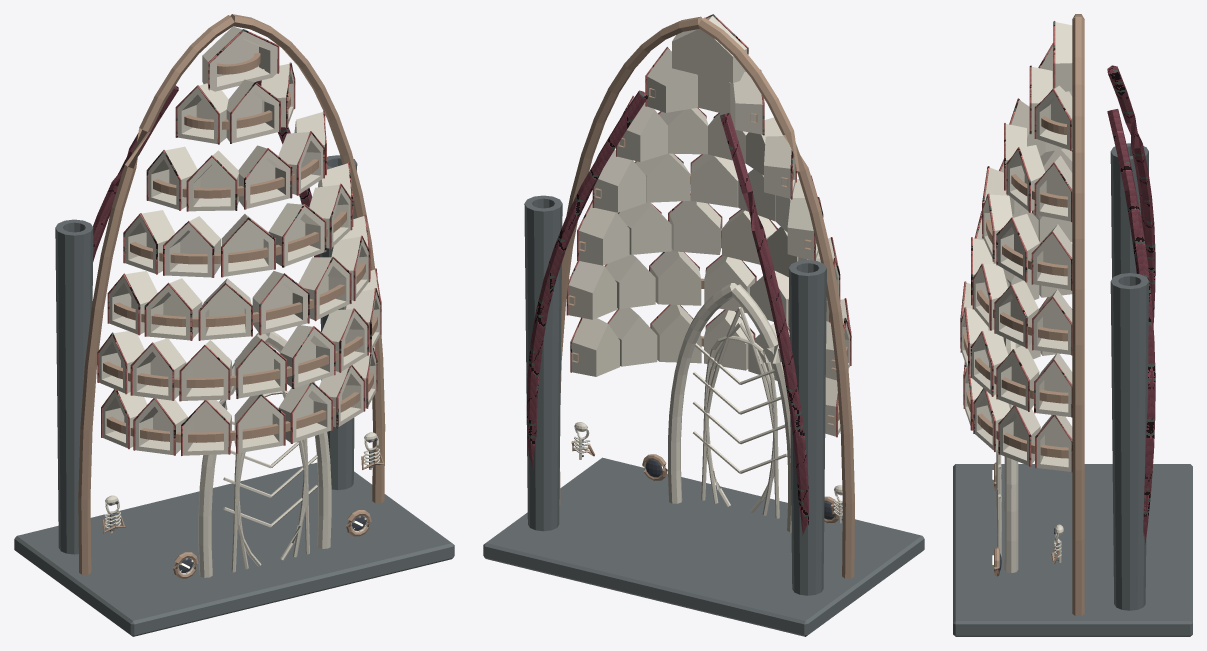
Rendered from processional_acoustic_canopy.glb.
3 renders of one model, left to right at view 1: azimuth 30°, elevation 25°; view 2: azimuth 150°, elevation 25°; view 3: azimuth 270°, elevation 25°, orthographic.
Visible parts, largest first — view 1: processional_acoustic_canopy_warm, processional_acoustic_canopy_petrol, processional_acoustic_canopy_worn, processional_acoustic_canopy_suture, processional_acoustic_canopy_bruised; view 2: processional_acoustic_canopy_warm, processional_acoustic_canopy_petrol, processional_acoustic_canopy_worn, processional_acoustic_canopy_bruised, processional_acoustic_canopy_suture; view 3: processional_acoustic_canopy_petrol, processional_acoustic_canopy_warm, processional_acoustic_canopy_worn, processional_acoustic_canopy_bruised, processional_acoustic_canopy_suture.
Part boxes in pixels (x1,y1,x2,y2): processional_acoustic_canopy_warm: (99, 26, 380, 577); processional_acoustic_canopy_petrol: (14, 155, 454, 636); processional_acoustic_canopy_worn: (78, 14, 385, 578); processional_acoustic_canopy_suture: (97, 29, 381, 455); processional_acoustic_canopy_bruised: (93, 80, 319, 261); processional_acoustic_canopy_warm: (568, 15, 849, 532); processional_acoustic_canopy_petrol: (483, 195, 924, 636); processional_acoustic_canopy_worn: (559, 16, 854, 578); processional_acoustic_canopy_bruised: (526, 90, 809, 535); processional_acoustic_canopy_suture: (566, 14, 851, 437); processional_acoustic_canopy_petrol: (953, 143, 1192, 636); processional_acoustic_canopy_warm: (961, 22, 1072, 572); processional_acoustic_canopy_worn: (963, 14, 1084, 615); processional_acoustic_canopy_bruised: (1107, 65, 1155, 544); processional_acoustic_canopy_suture: (960, 21, 1072, 471).
Size of the model in its own units: 5.5 by 8.73 by 3.5.
Materials: 7 (2 with a texture image).
